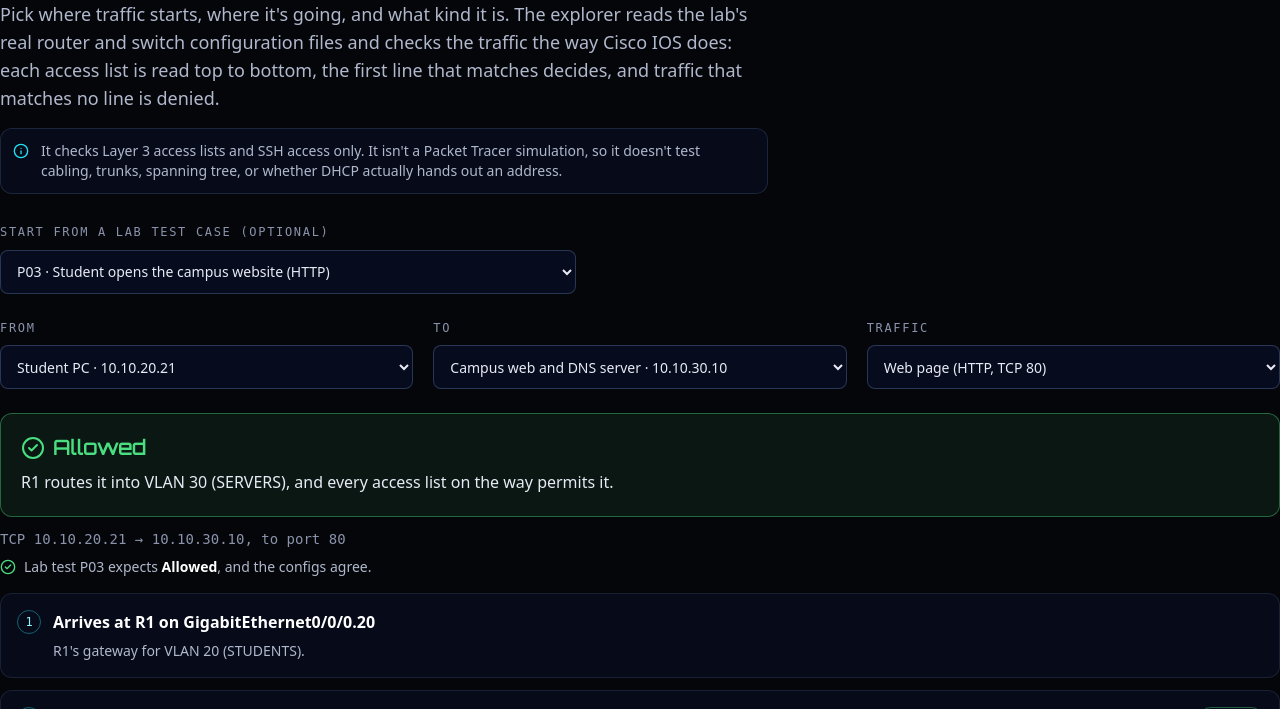
it: policy explorer › explains same-VLAN traffic that never reaches the router
The image size is (1280, 709).
Select "P21 · Faculty PC prints to the department printer (same VLAN)" in the dropdown labelled "Start from a lab test case (optional)" at (288, 272), box top-left (0, 250), bottom-right (576, 294)
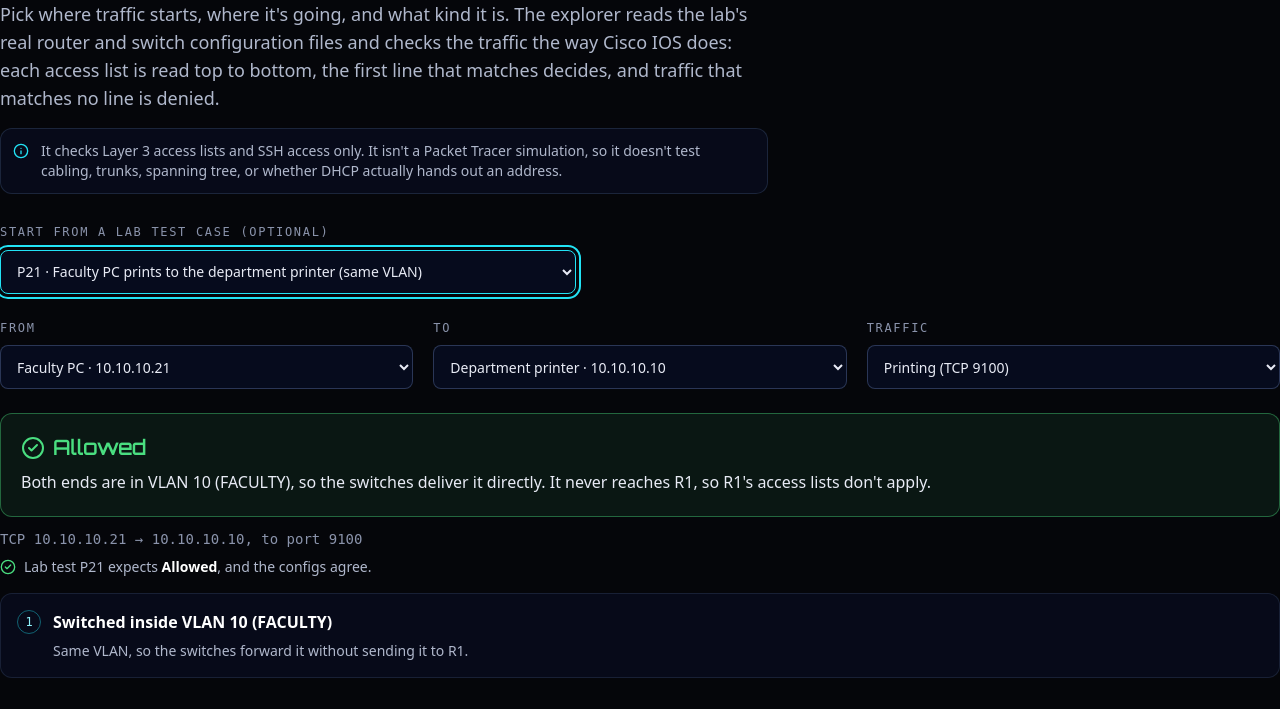
Expected: the text "Allowed" is shown, top-left (21, 435), bottom-right (146, 460)
Now the text "Switched inside VLAN 10 (FACULTY)" is shown, box top-left (53, 611), bottom-right (332, 633)
